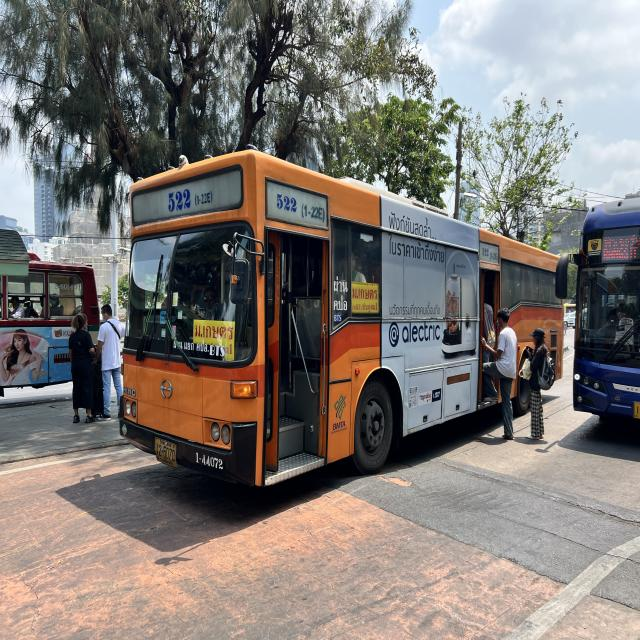BMTA-bus: (117, 150, 568, 490)
Bus-Line-Number: (270, 187, 326, 227), (166, 186, 216, 215)
Destination-Sign-Extra-Bus-Expressway: (194, 318, 234, 364)
Destination-Sign-Normal: (601, 230, 640, 263)
TSB-Bus: (572, 193, 640, 432)
